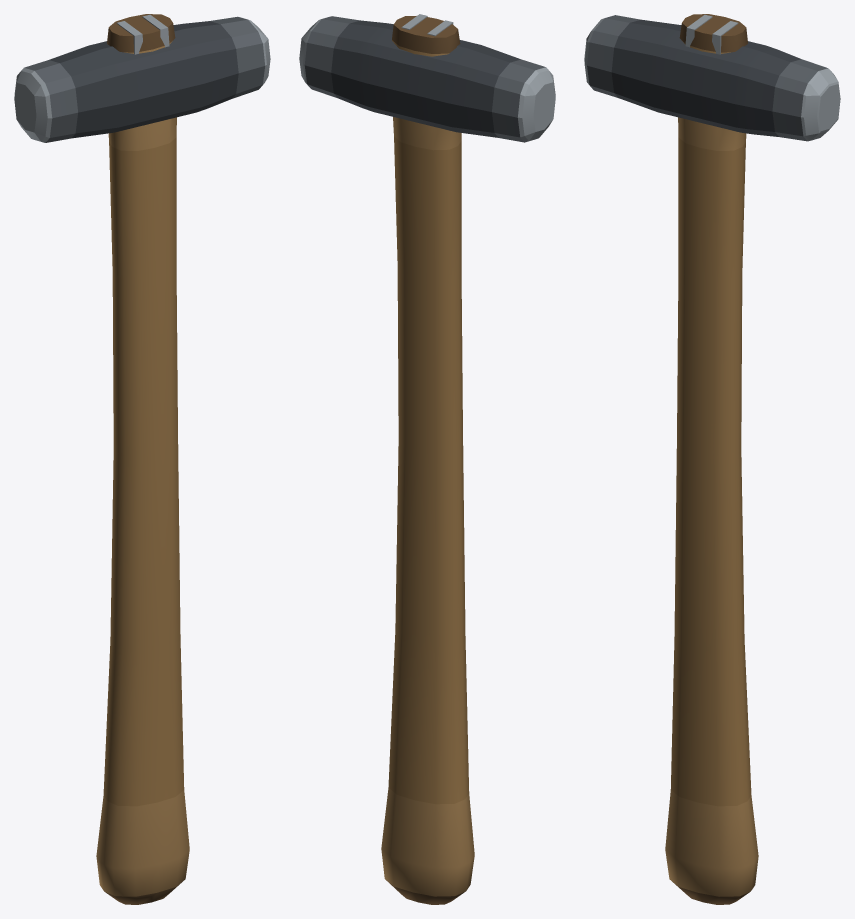
File: hammer.glb
3 renders of one model, left to right at view 1: azimuth 30°, elevation 25°; view 2: azimuth 150°, elevation 25°; view 3: azimuth 330°, elevation 25°, orthographic.
Parts seen in each view (by area): view 1: handle, head, wedges; view 2: handle, head; view 3: handle, head, wedges.
Boxes of the visible parts, left/top/right/bottom form: handle: left=96, top=14, right=189, bottom=904; head: left=14, top=16, right=270, bottom=142; wedges: left=116, top=14, right=169, bottom=54; handle: left=381, top=16, right=474, bottom=904; head: left=299, top=16, right=555, bottom=142; handle: left=665, top=14, right=758, bottom=904; head: left=584, top=15, right=840, bottom=141; wedges: left=685, top=14, right=738, bottom=54.
Bounding box in the file's own units: 0.102 × 0.3624 × 0.0304.
